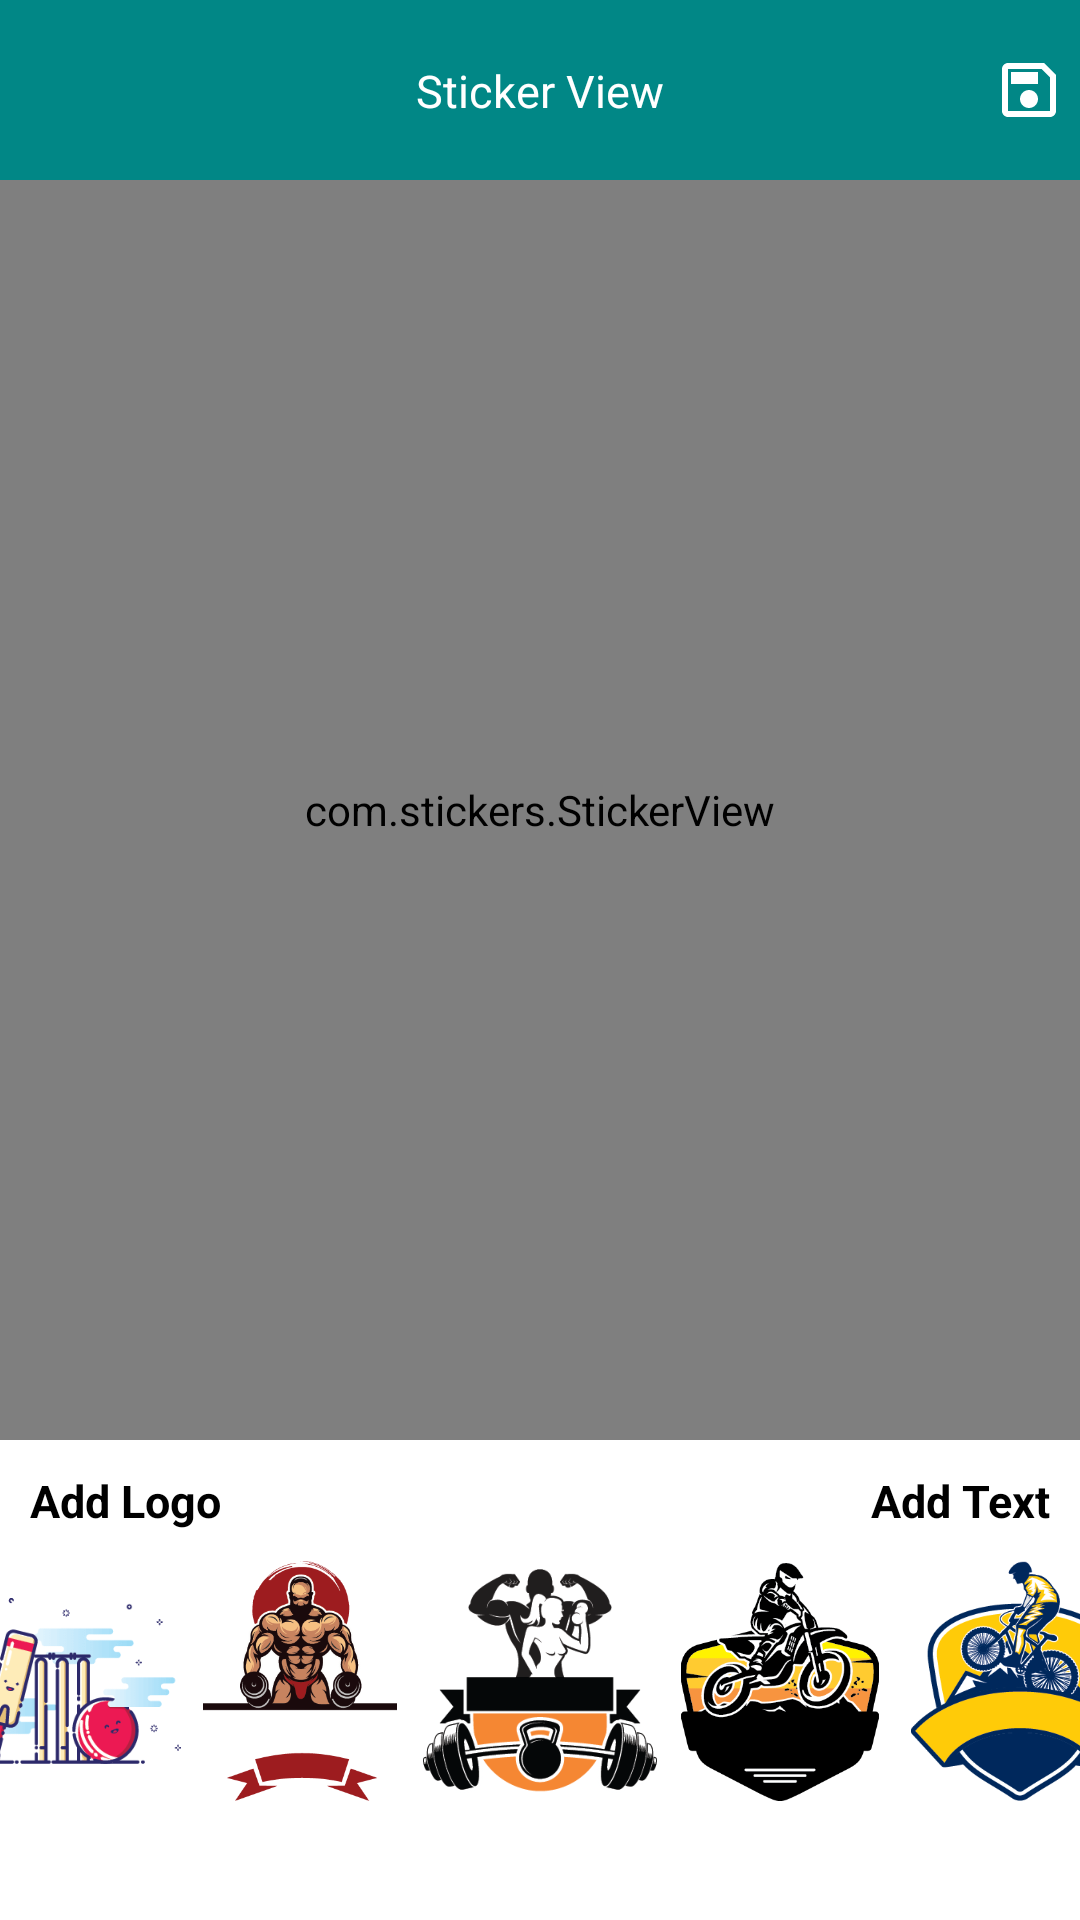

Icon click points for this 1080 x 1920 phone screenshot, format (x=x, y=y):
save: (x=1029, y=90)
